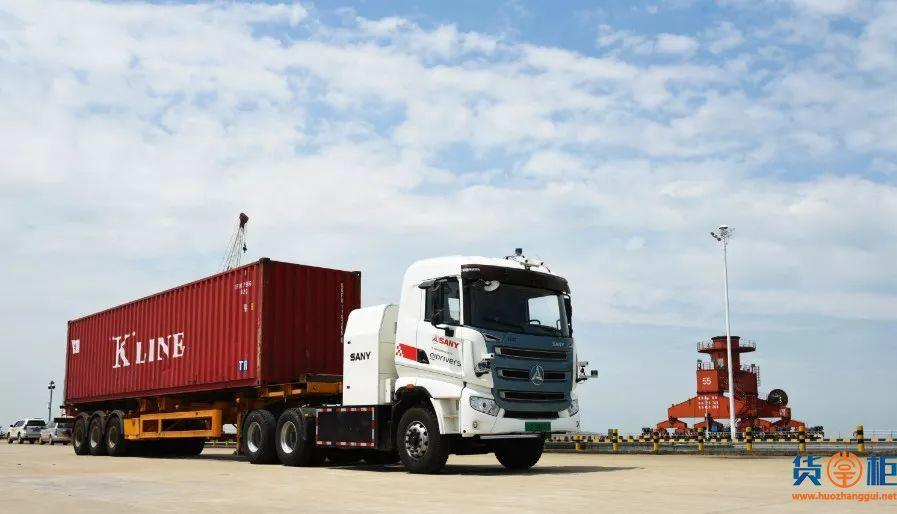truck: (48, 252, 589, 483)
